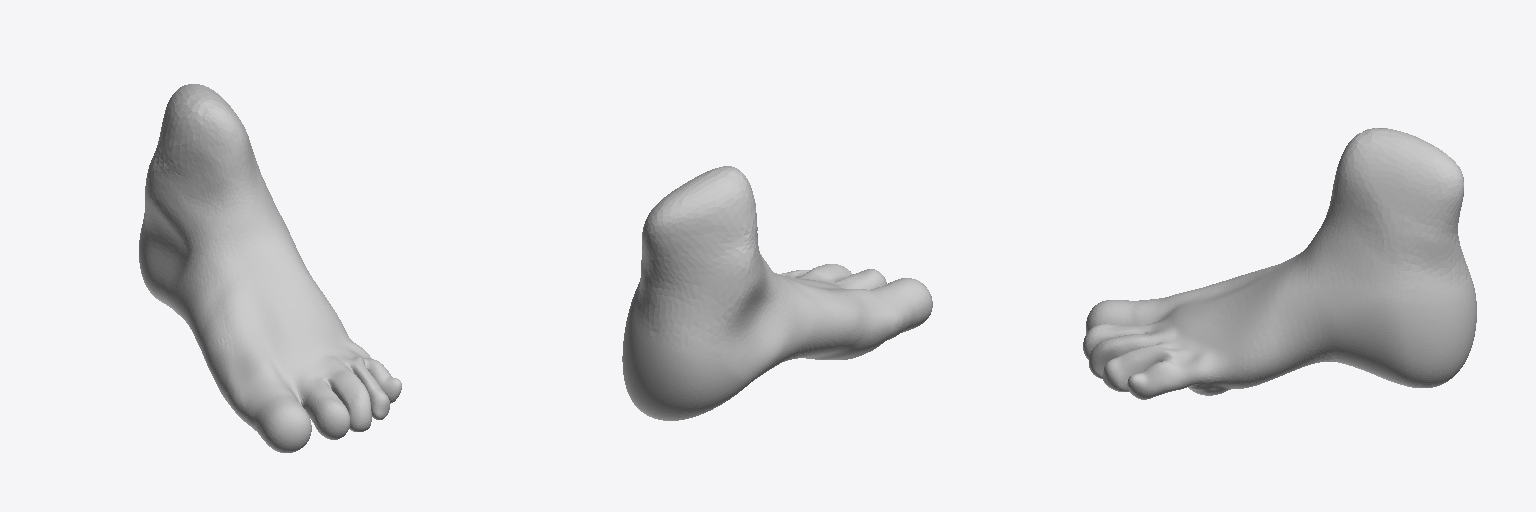
The model's file is Foot.obj.
The picture shows the model from 3 angles: view 1: azimuth 30°, elevation 25°; view 2: azimuth 150°, elevation 25°; view 3: azimuth 270°, elevation 25°; orthographic projection.
Visible parts, largest first — view 1: ZBrush_defualt_group; view 2: ZBrush_defualt_group; view 3: ZBrush_defualt_group.
Boxes of the visible parts, box(x1,y1,x2,y2) form: ZBrush_defualt_group: box(139, 84, 401, 452); ZBrush_defualt_group: box(622, 166, 932, 420); ZBrush_defualt_group: box(1083, 128, 1476, 399).
Size of the model in its own units: 144 by 220 by 320.